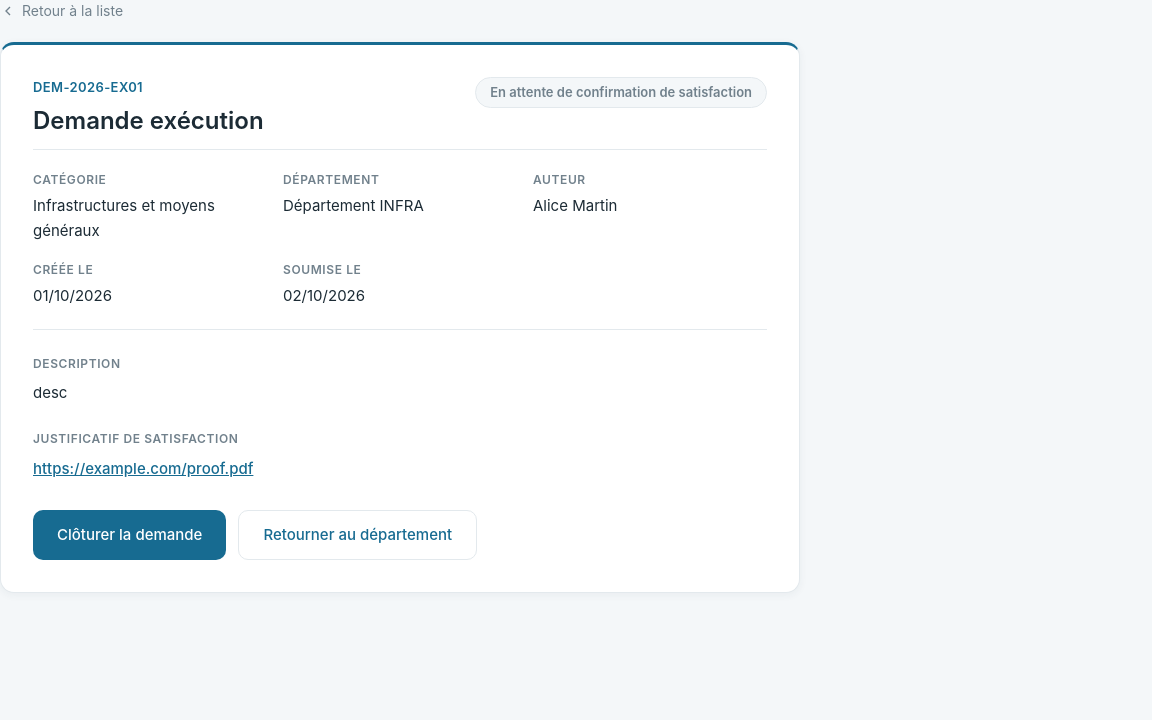
exec UI : le retour au département exige un motif non vide
Click the button "Retourner au département": (358, 535) 238,510 -> 477,560
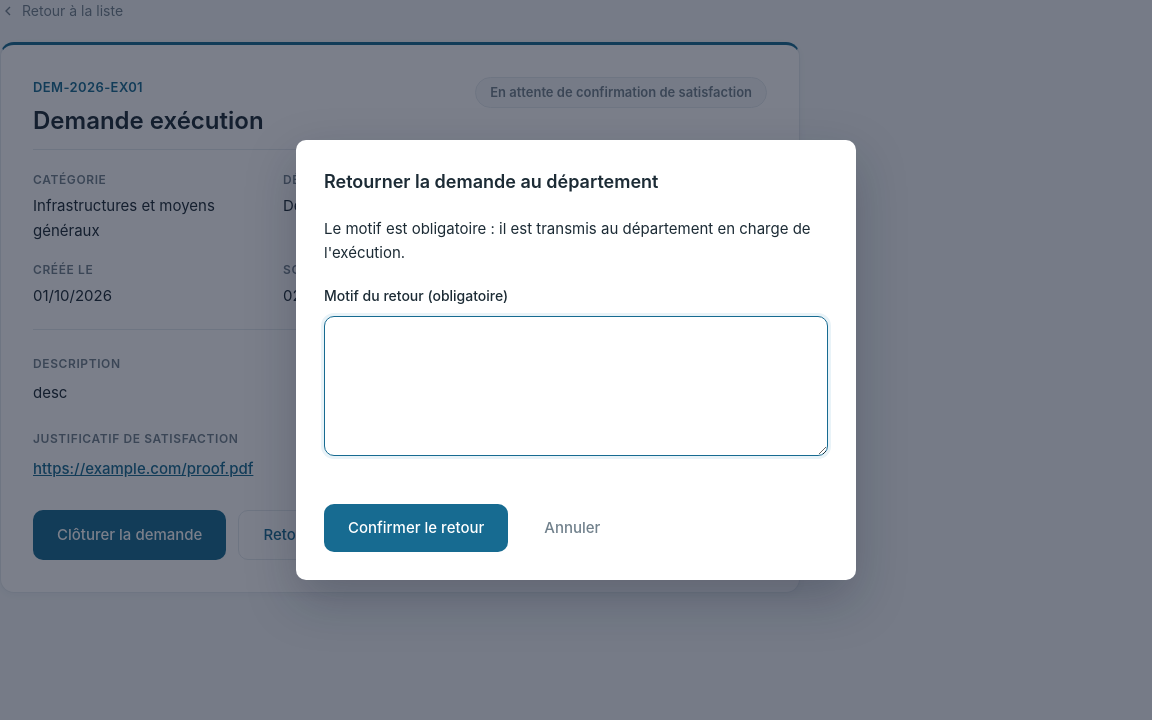
Click the button "Confirmer le retour": (416, 528) 324,504 -> 508,552
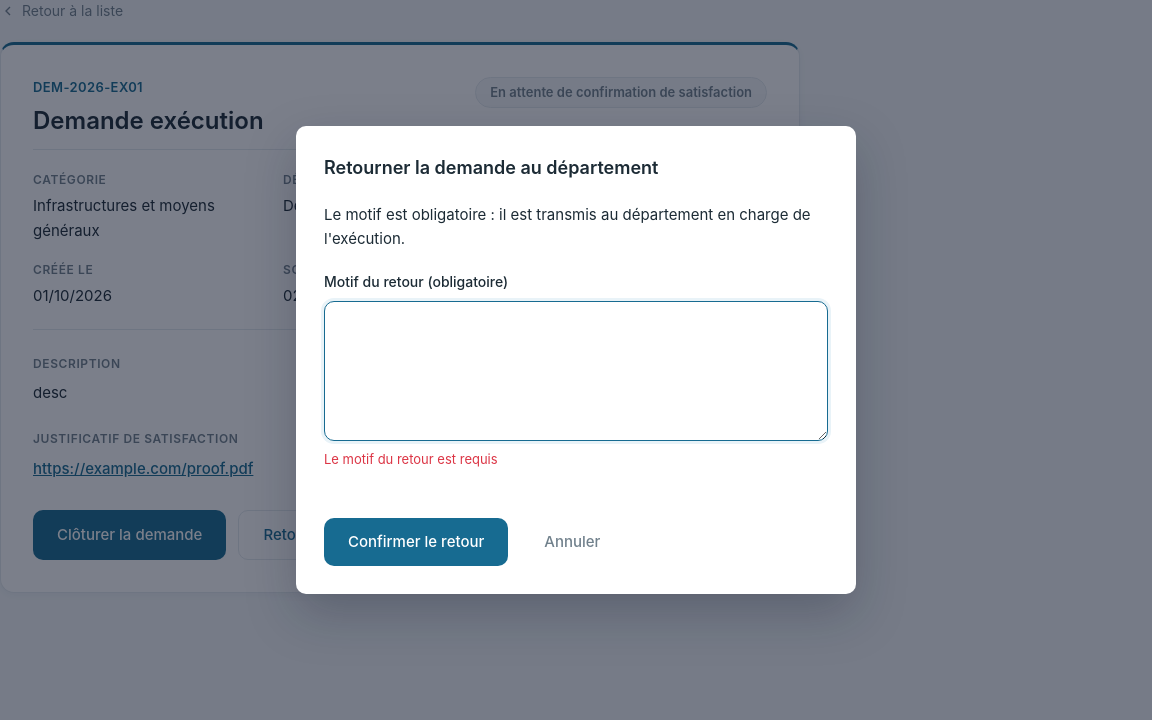
Check: the message "Le motif du retour est requis" is shown, box 324,451 -> 498,467
